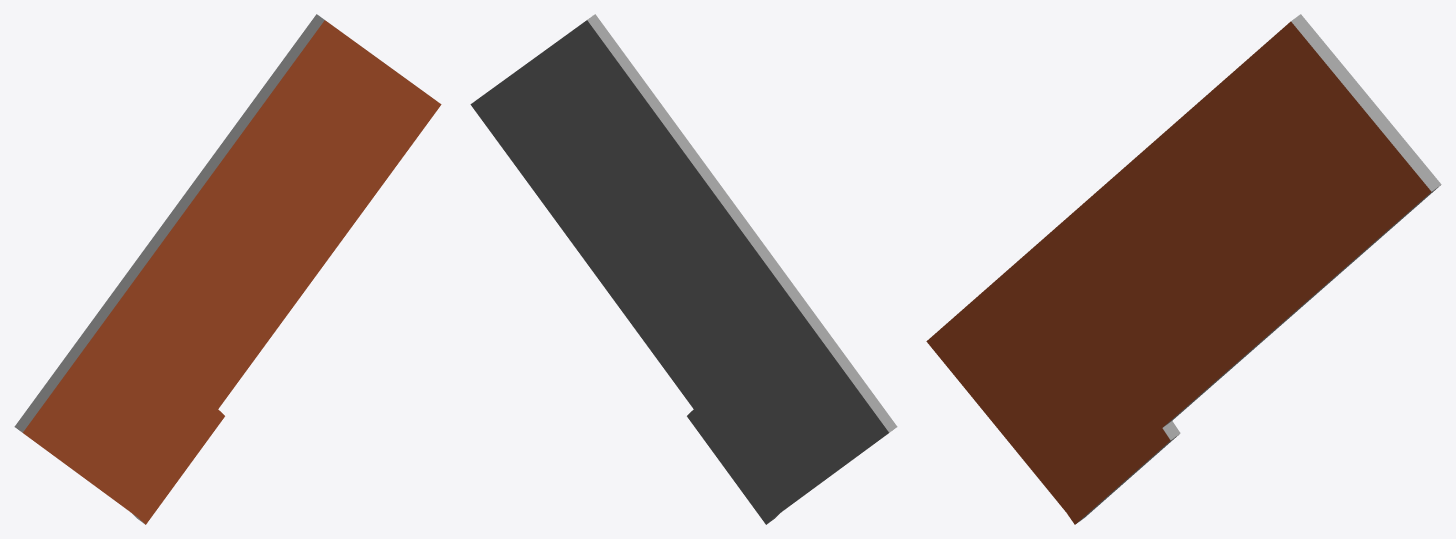
File: construction_0141_assumed_A_Grande_construcao_h6m.obj
3 renders of one model, left to right at view 1: azimuth 30°, elevation 25°; view 2: azimuth 150°, elevation 25°; view 3: azimuth 330°, elevation 25°, orthographic. The views are drawn at different scales.
Visible parts, largest first — view 1: construction_0141_assumed_A_Grande_construcao; view 2: construction_0141_assumed_A_Grande_construcao; view 3: construction_0141_assumed_A_Grande_construcao.
Boxes of the visible parts, bbox=[...] form: construction_0141_assumed_A_Grande_construcao: bbox=[14, 14, 441, 524]; construction_0141_assumed_A_Grande_construcao: bbox=[470, 14, 897, 524]; construction_0141_assumed_A_Grande_construcao: bbox=[926, 14, 1441, 524].
Bounding box in the file's own units: 176 × 185 × 6.
